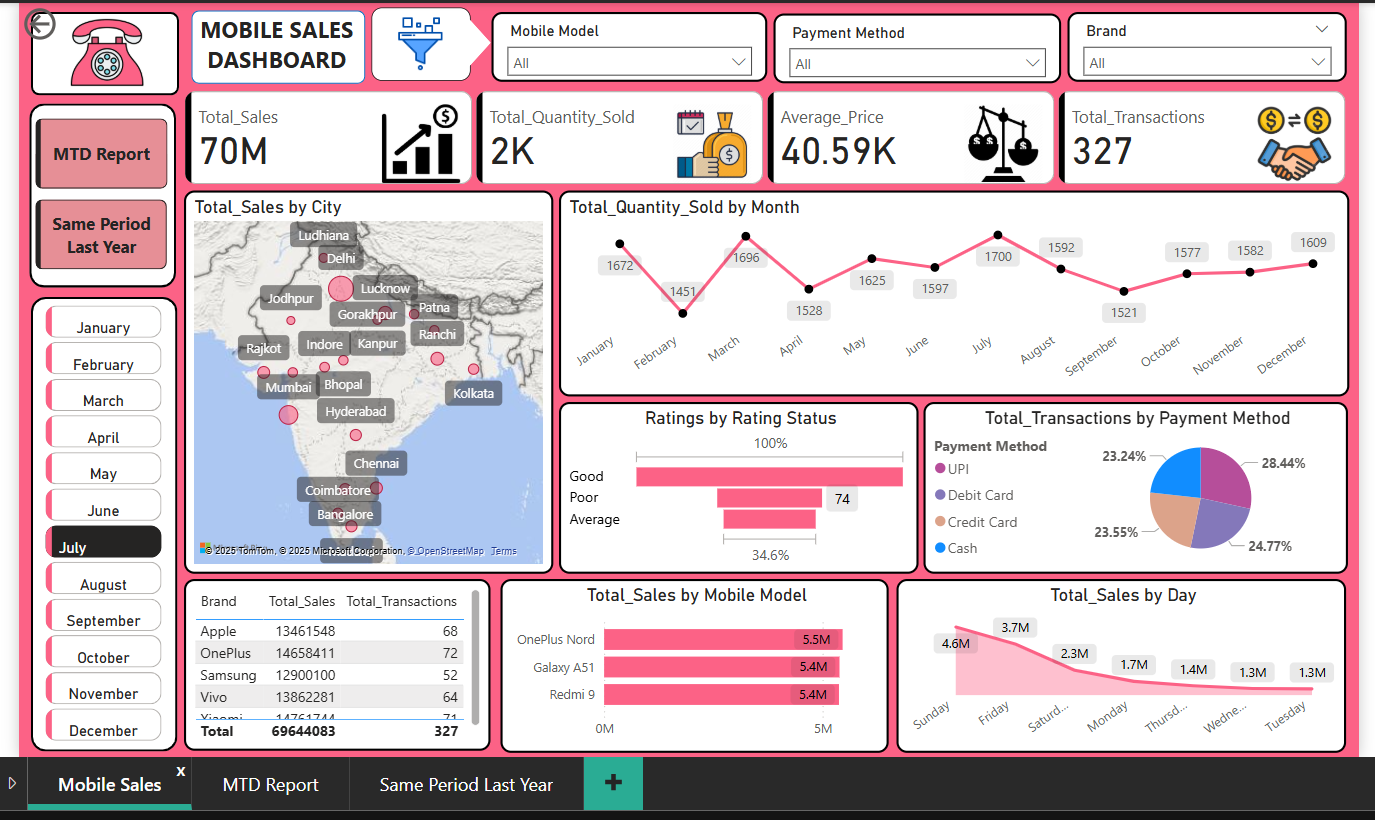

What the dashboard file says about the page in this screenshot:
{"tool":"powerbi","page":{"name":"Mobile Sales","canvas":[1280,720],"ordinal":0},"visuals":[{"type":"shape","box":[11.4,8.1,141.5,79.7],"z":0},{"type":"image","box":[21.1,6.5,125.2,79.7],"z":1000},{"type":"shape","box":[11.4,281.4,139.9,434.3],"z":2000},{"type":"advancedSlicerVisual","fields":{"Values":["Custom_Calender.Date.Variation.Date Hierarchy.Month"]},"box":[19.5,283,122,426.2],"z":3000},{"type":"shape","box":[9.8,96,139.9,175.7],"z":4000},{"type":"cardVisual","fields":{"Data":["Mobile_Sales_Data.Total_Sales","Mobile_Sales_Data.Total_Quantity_Sold","Mobile_Sales_Data.Average_Price","Mobile_Sales_Data.Total_Transactions"]},"box":[152.9,78.1,1120.7,99.2],"z":5000},{"type":"slicer","fields":{"Values":["Mobile_Sales_Data.Mobile Model"]},"box":[450.6,8.1,263.5,66.7],"z":6000},{"type":"slicer","fields":{"Values":["Mobile_Sales_Data.Payment Method"]},"box":[720.6,9.8,274.9,66.7],"z":7000},{"type":"slicer","fields":{"Values":["Mobile_Sales_Data.Brand"]},"box":[1002,8.1,266.8,66.7],"z":8000},{"type":"image","box":[336.7,4.9,94.3,69.9],"z":9000},{"type":"shape","box":[405,13,45.5,50.4],"z":10000},{"type":"shape","box":[164.3,6.5,165.9,69.9],"z":11000},{"type":"textbox","box":[157.8,4.9,177.3,105.7],"z":12000},{"type":"map","fields":{"Category":["Mobile_Sales_Data.City"],"Size":["Mobile_Sales_Data.Total_Sales"]},"box":[157.8,178.9,353,366],"z":13000},{"type":"lineChart","fields":{"Category":["Custom_Calender.Date.Variation.Date Hierarchy.Month"],"Y":["Mobile_Sales_Data.Total_Quantity_Sold"]},"box":[515.6,178.9,754.7,196.8],"z":14000},{"type":"funnel","title":"Ratings by Rating Status","fields":{"Category":["Mobile_Sales_Data.Rating Status"],"Y":["CountNonNull(Mobile_Sales_Data.Customer Ratings)"]},"box":[515.6,380.6,343.2,164.3],"z":15000},{"type":"pieChart","fields":{"Y":["Mobile_Sales_Data.Total_Transactions"],"Category":["Mobile_Sales_Data.Payment Method"]},"box":[863.7,380.6,405,164.3],"z":16000},{"type":"clusteredBarChart","fields":{"Y":["Mobile_Sales_Data.Total_Sales"],"Category":["Mobile_Sales_Data.Mobile Model"]},"box":[460.3,549.8,370.9,165.9],"z":17000},{"type":"areaChart","fields":{"Y":["Mobile_Sales_Data.Total_Sales"],"Category":["Custom_Calender.Day"]},"box":[837.7,549.8,429.4,165.9],"z":18000},{"type":"tableEx","fields":{"Values":["Mobile_Sales_Data.Brand","Mobile_Sales_Data.Total_Sales","Mobile_Sales_Data.Total_Transactions"]},"box":[157.8,549.8,292.8,164.3],"z":19000},{"type":"actionButton","box":[0,0,100,40],"z":20000},{"type":"pageNavigator","box":[16.3,110.6,126.9,144.8],"z":21000}]}

Visuals, with their boxes in screenshot pixels (x1, y1, x2, y2):
shape: {"x1": 26, "y1": 5, "x2": 176, "y2": 89}
image: {"x1": 37, "y1": 3, "x2": 169, "y2": 88}
shape: {"x1": 26, "y1": 295, "x2": 175, "y2": 755}
advancedSlicerVisual - Custom_Calender.Date.Variation.Date Hierarchy.Month: {"x1": 35, "y1": 296, "x2": 164, "y2": 748}
shape: {"x1": 25, "y1": 98, "x2": 173, "y2": 284}
cardVisual - Mobile_Sales_Data.Total_Sales x Mobile_Sales_Data.Total_Quantity_Sold: {"x1": 176, "y1": 79, "x2": 1364, "y2": 184}
slicer - Mobile_Sales_Data.Mobile Model: {"x1": 492, "y1": 5, "x2": 771, "y2": 76}
slicer - Mobile_Sales_Data.Payment Method: {"x1": 778, "y1": 7, "x2": 1069, "y2": 77}
slicer - Mobile_Sales_Data.Brand: {"x1": 1076, "y1": 5, "x2": 1358, "y2": 76}
image: {"x1": 371, "y1": 2, "x2": 471, "y2": 76}
shape: {"x1": 443, "y1": 10, "x2": 492, "y2": 64}
shape: {"x1": 188, "y1": 3, "x2": 364, "y2": 77}
textbox: {"x1": 181, "y1": 2, "x2": 369, "y2": 114}
map - Mobile_Sales_Data.City x Mobile_Sales_Data.Total_Sales: {"x1": 181, "y1": 186, "x2": 555, "y2": 574}
lineChart - Custom_Calender.Date.Variation.Date Hierarchy.Month x Mobile_Sales_Data.Total_Quantity_Sold: {"x1": 561, "y1": 186, "x2": 1360, "y2": 394}
"Ratings by Rating Status" funnel: {"x1": 561, "y1": 400, "x2": 924, "y2": 574}
pieChart - Mobile_Sales_Data.Total_Transactions x Mobile_Sales_Data.Payment Method: {"x1": 929, "y1": 400, "x2": 1358, "y2": 574}
clusteredBarChart - Mobile_Sales_Data.Total_Sales x Mobile_Sales_Data.Mobile Model: {"x1": 502, "y1": 579, "x2": 895, "y2": 755}
areaChart - Mobile_Sales_Data.Total_Sales x Custom_Calender.Day: {"x1": 902, "y1": 579, "x2": 1357, "y2": 755}
tableEx - Mobile_Sales_Data.Brand x Mobile_Sales_Data.Total_Sales: {"x1": 181, "y1": 579, "x2": 492, "y2": 753}
actionButton: {"x1": 14, "y1": 0, "x2": 120, "y2": 39}
pageNavigator: {"x1": 32, "y1": 114, "x2": 166, "y2": 267}
